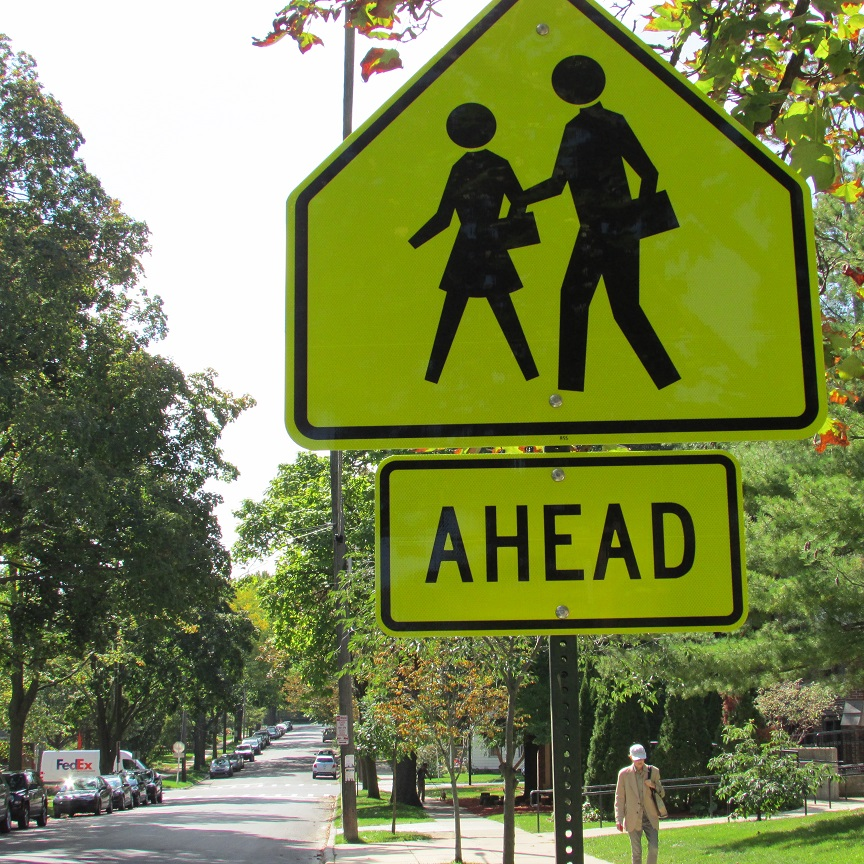slow: (281, 1, 829, 445)
